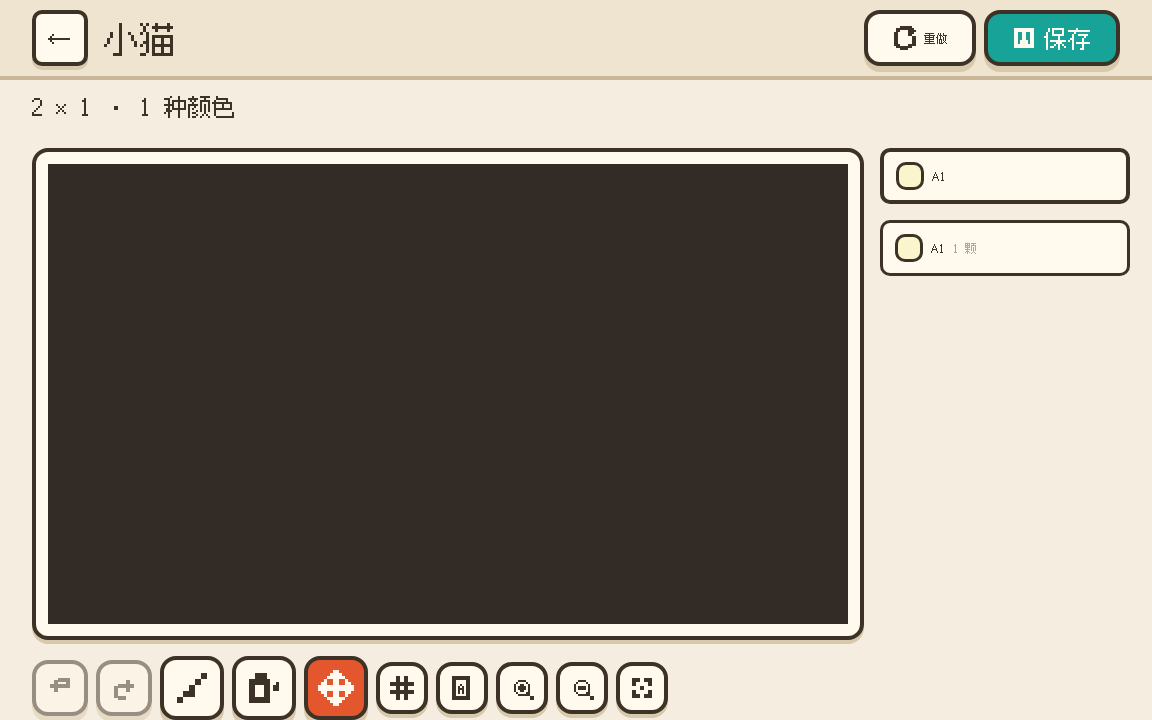
Scenario: 未保存离开的拦截 › dirty 时守卫取消导航并给出确认条，三个动作都在
Click the button with test id "tool-brush" at (192, 688), box [160,656,224,719]
(page scrolled)
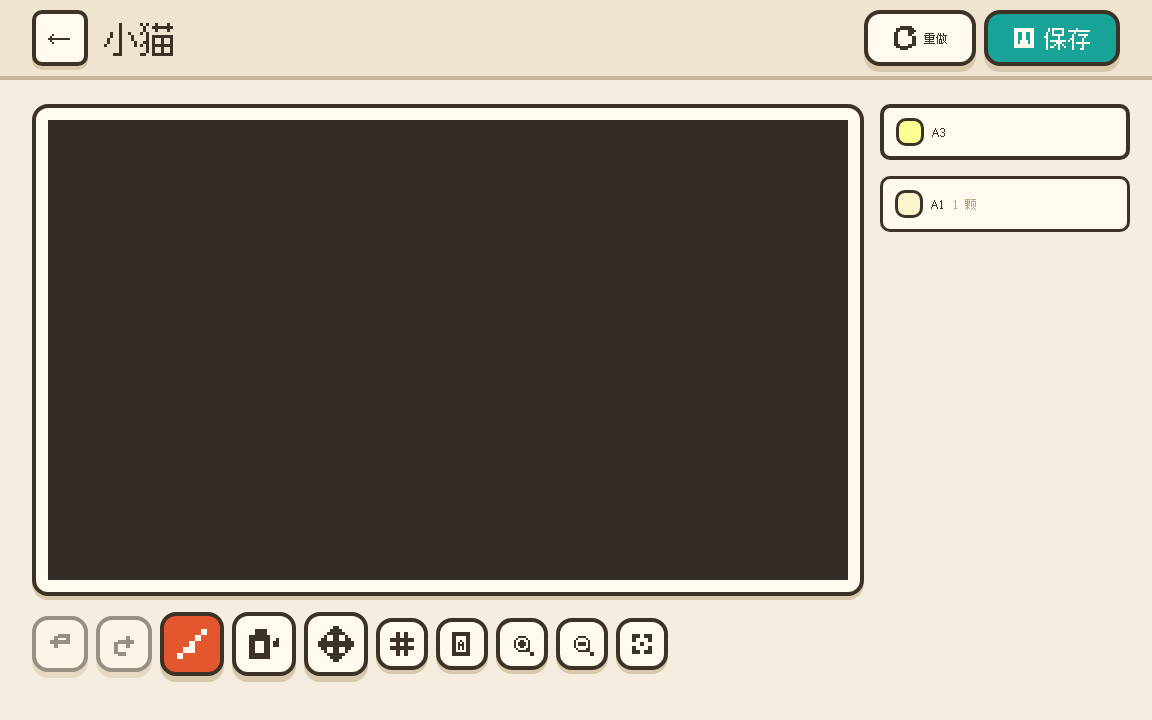
Press the mouse on the drawing with test id "editor-canvas" at (448, 420), box [48,120,848,719]
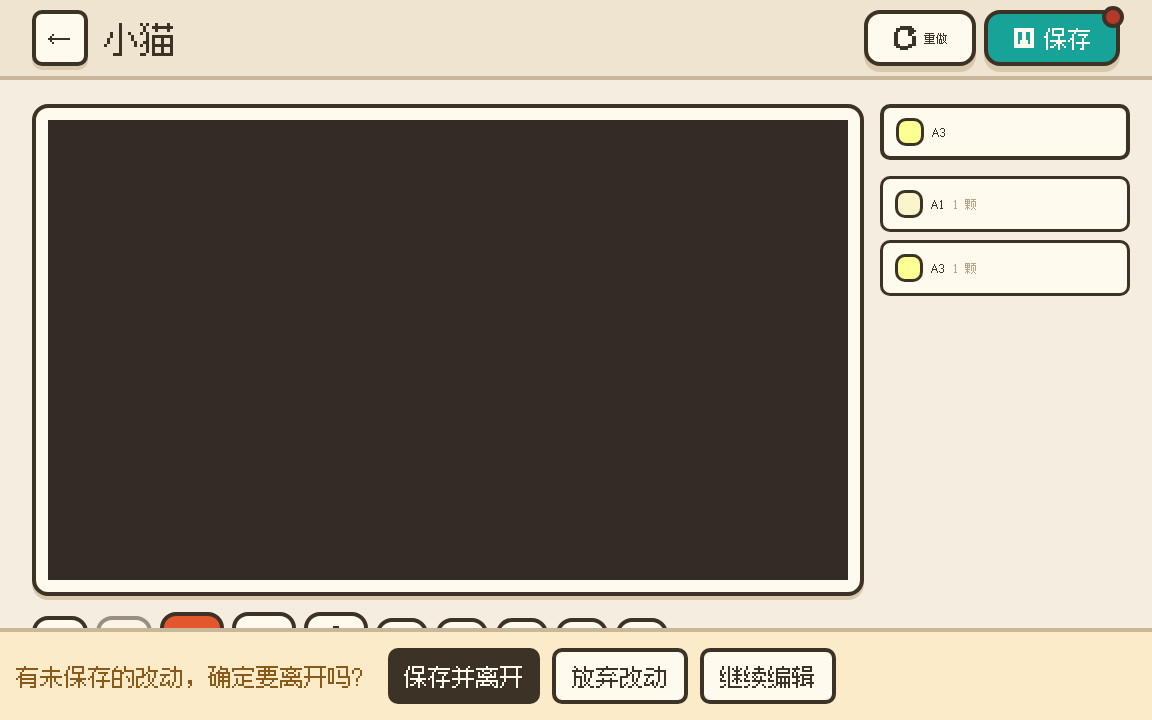
Result: the element with test id "leave-bar" is shown at [0,628,1151,719]
Result: the button with test id "leave-save" reads "保存并离开" at [388,648,540,704]
Result: the button with test id "leave-discard" reads "放弃改动" at [552,648,688,704]
